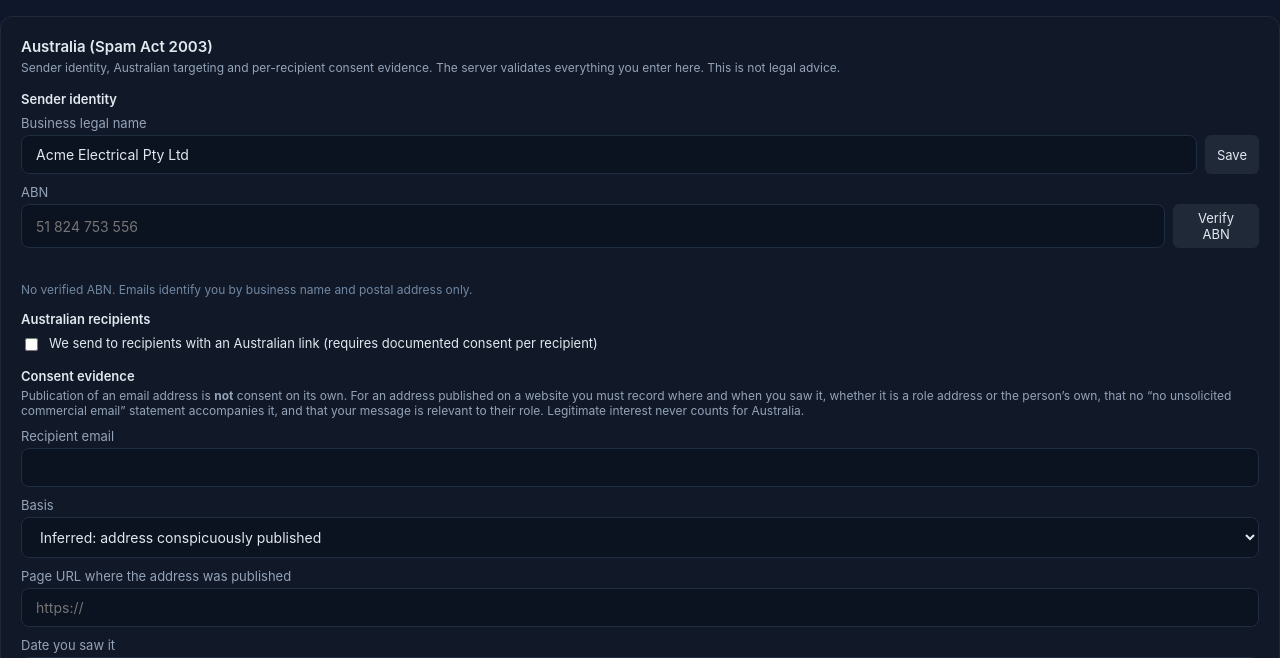
Scenario: AuComplianceSection — ABN › other failures (not found / not configured) show the message and keep existing state
The image size is (1280, 658).
In the field labelled "ABN": (593, 226) [21,204,1165,248], type "51824753556"
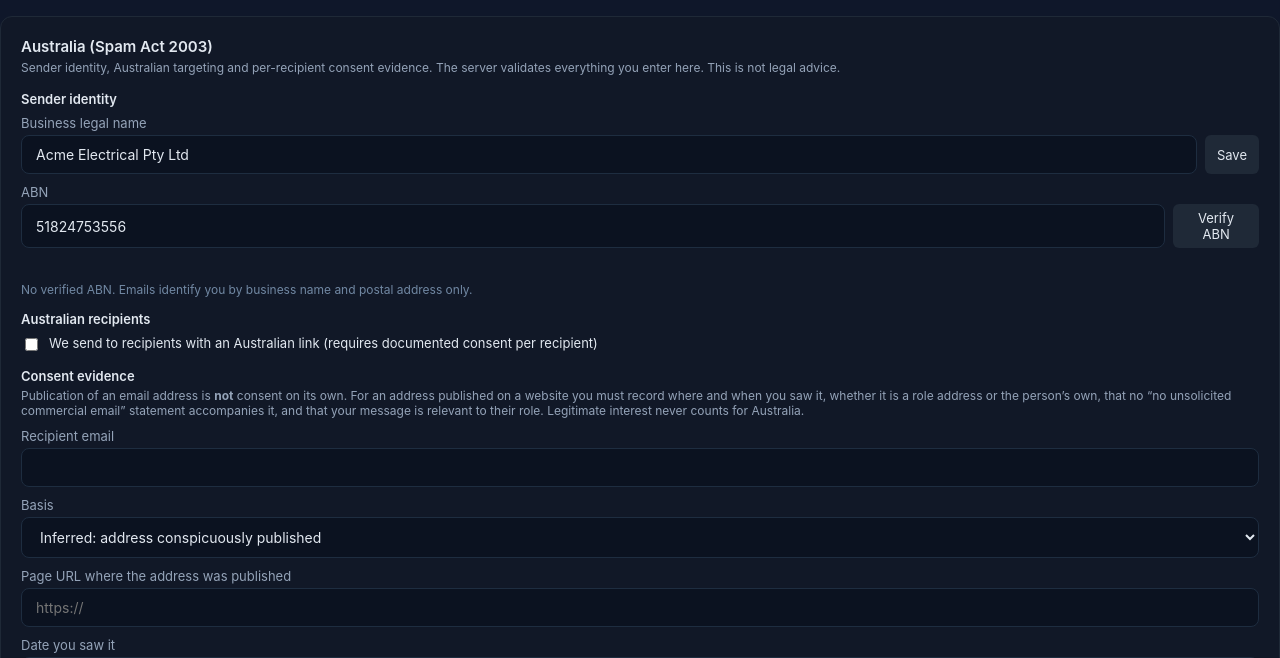
Click the button "Verify ABN": (1216, 226) [1173,204,1259,248]
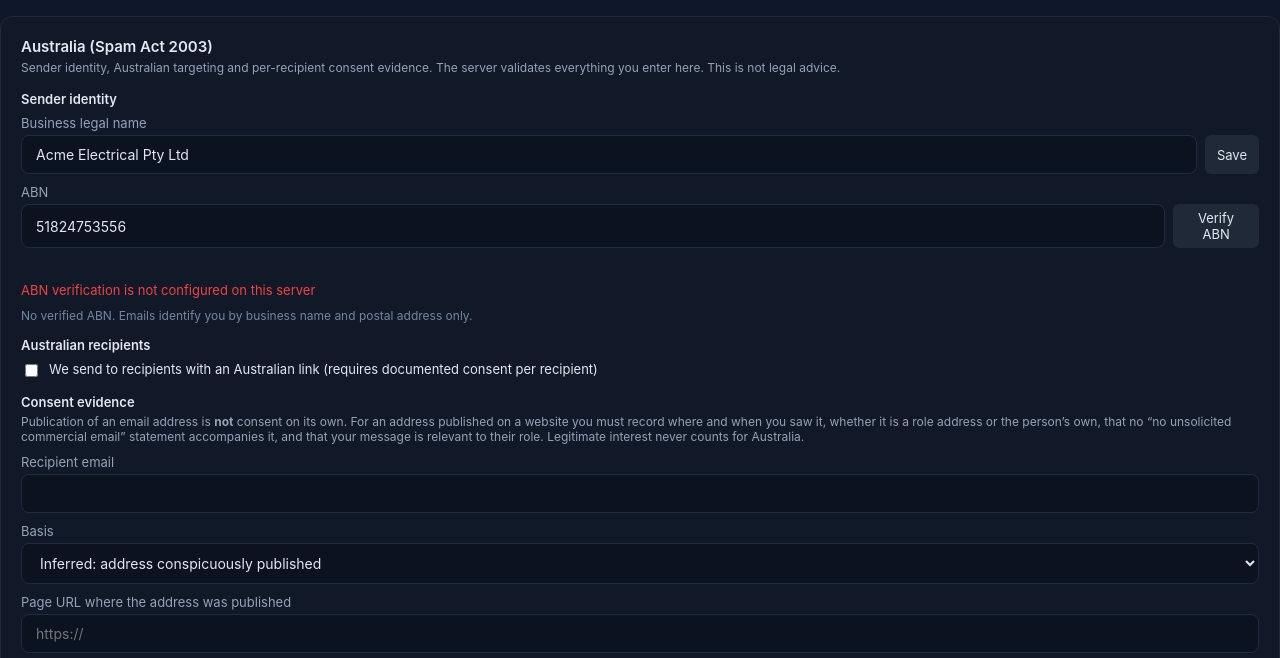
Expected: the text "No verified ABN" is shown, [21,308,472,323]
Expected: the message "ABN verification is not configured on this server" is shown, [21,282,315,298]
